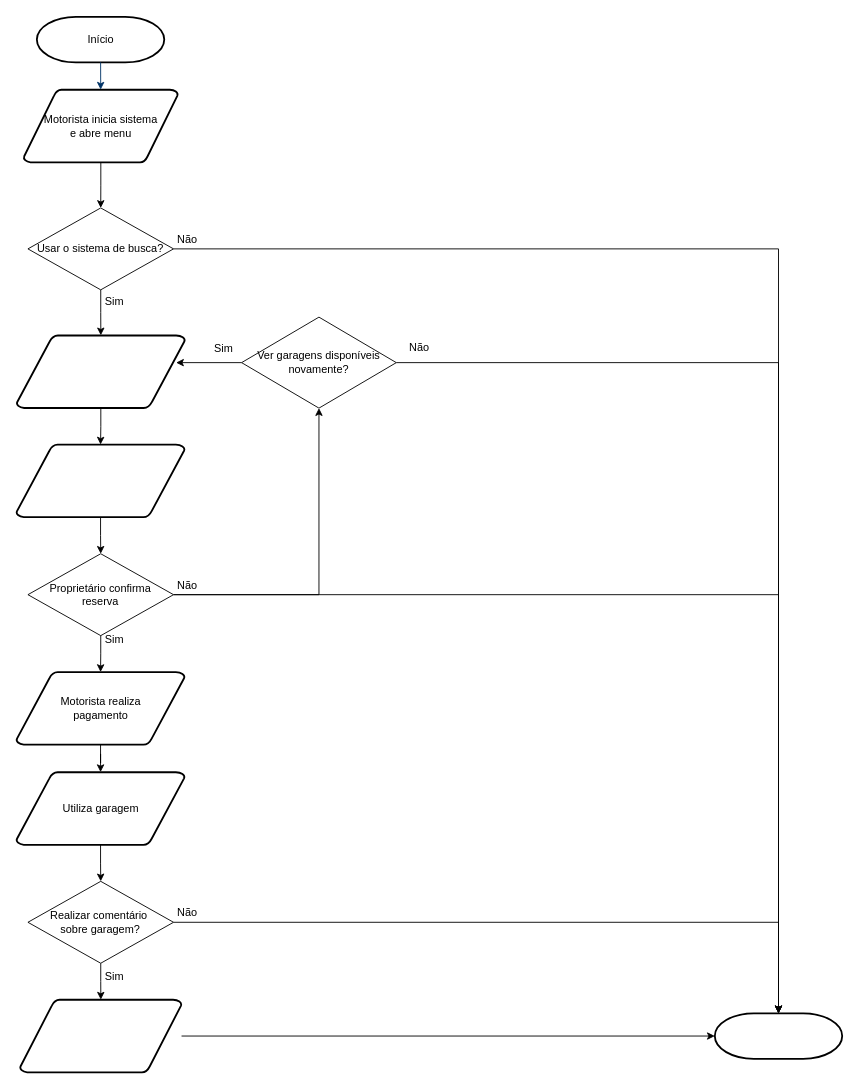
The diagram is 859 pixels wide and 1088 high, and some of its shapes have lost their labels. The shapes that lost their labels are listed below. From the top down, each one's centre as x and y in pixels, then its label:
At point 100,371: "Garagens disponíveis no sistema".
At point 100,480: "Entra em contato com proprietário".
At point 100,1035: "Realiza comentário/ Avalia Garagem".
At point 778,1035: "Processo finalizado".
